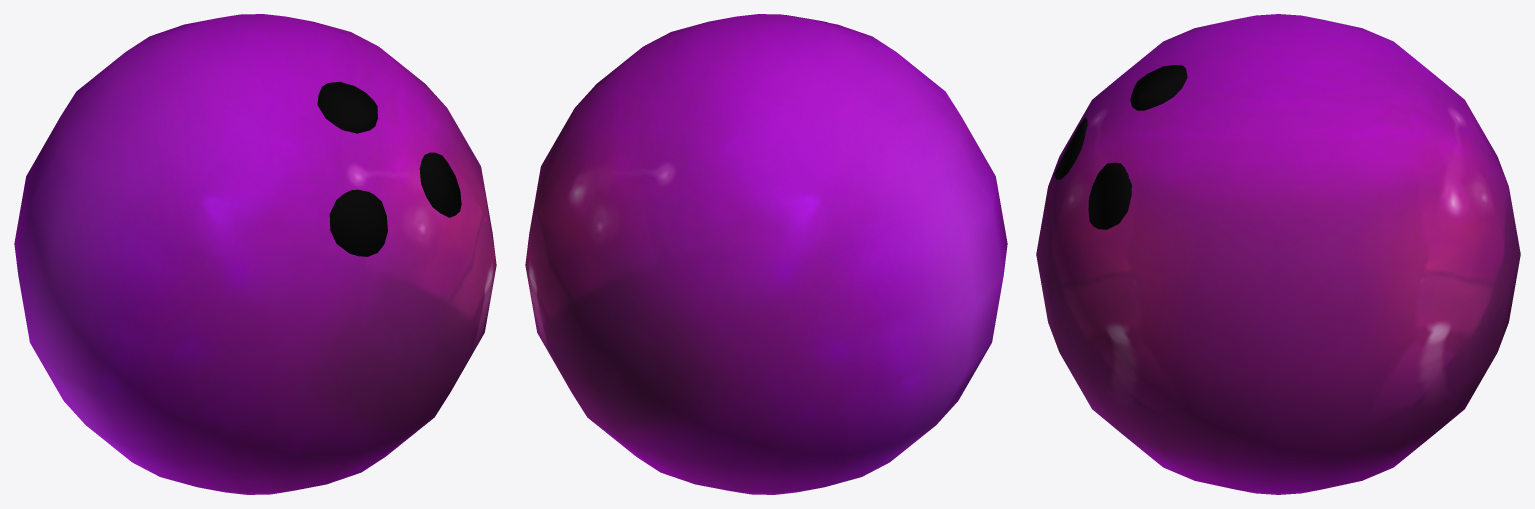
File: qiu_26.FBX
3 renders of one model, left to right at view 1: azimuth 30°, elevation 25°; view 2: azimuth 150°, elevation 25°; view 3: azimuth 270°, elevation 25°, orthographic.
Parts seen in each view (by area): view 1: qiu_26; view 2: qiu_26; view 3: qiu_26.
Part boxes in pixels (x1=…): qiu_26: x1=14, y1=14, x2=496, y2=494; qiu_26: x1=525, y1=14, x2=1007, y2=494; qiu_26: x1=1036, y1=14, x2=1520, y2=494.
Size of the model in its own units: 592 by 592 by 592.
Materials: 1 (1 with a texture image).
